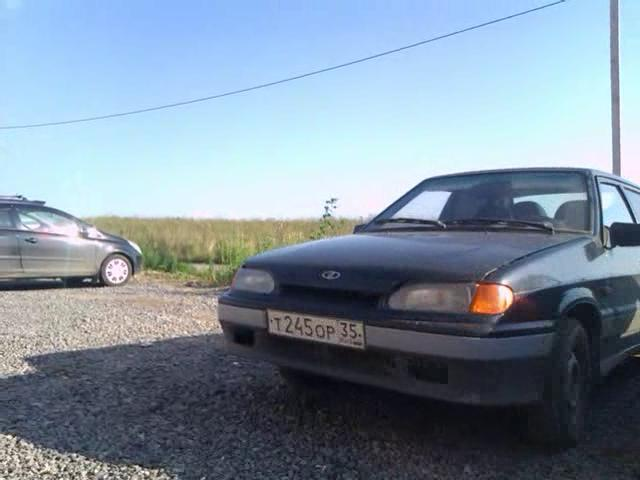car license plate: (263, 309, 371, 357)
